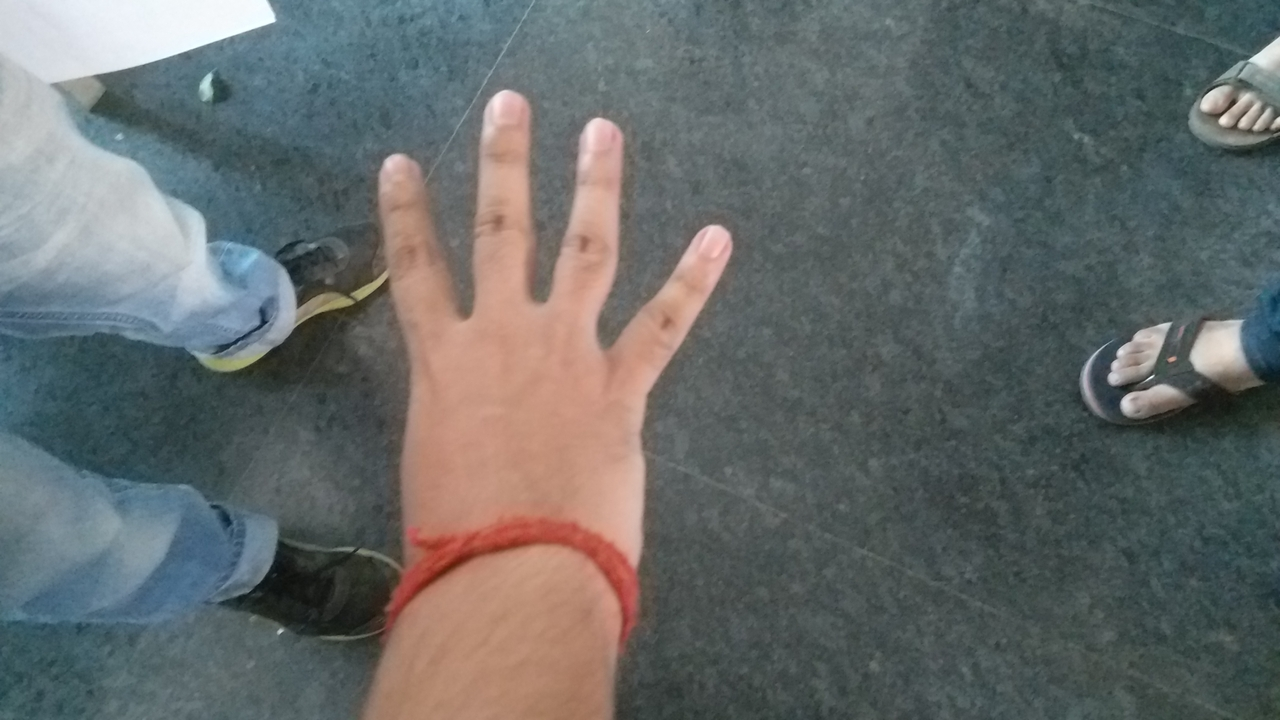fingertip: (670, 212, 744, 274), (566, 110, 628, 160), (366, 148, 424, 200), (474, 86, 534, 134)
